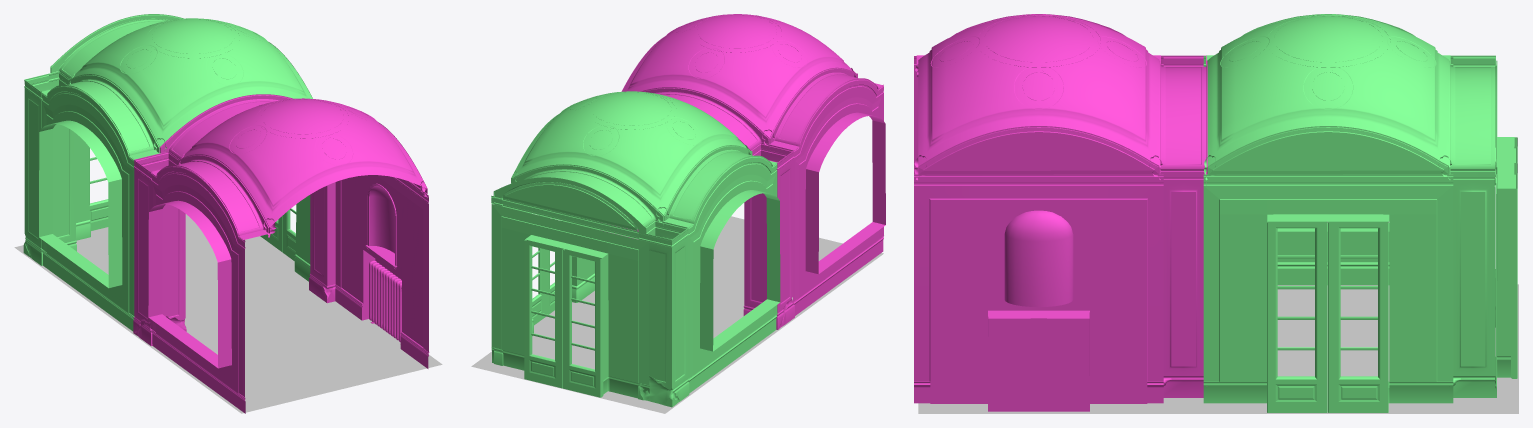
The model's file is Hallway_000_low.fbx.
3 renders of one model, left to right at view 1: azimuth 30°, elevation 25°; view 2: azimuth 150°, elevation 25°; view 3: azimuth 270°, elevation 25°, orthographic. The views are drawn at different scales.
Visible parts, largest first — view 1: Floor, room-01.roof.low, room-02.roof.low, room-01.wall.low, room-01.window.low, room-02.window.low, room-01.pillar-01.low, room-02.pillar-01.low, room-01.window-arch.low, room-02.window-arch.low, room-01.pillar-02.low, room-01.transfer-arch.low (+5 smaller); view 2: room-02.backwall.low, room-02.roof.low, room-01.roof.low, room-02.window.low, room-01.window.low, Floor, room-02.doors.low, room-02.pillar-01.low, room-01.pillar-01.low, room-02.transfer-arch.low, room-01.window-arch.low, room-02.window-arch.low (+2 smaller); view 3: room-01.wall.low, room-02.wall.low, room-02.roof.low, room-01.roof.low, room-02.doors.low, Floor, room-02.pillar-02.low, room-01.pillar-02.low, room-01.transfer-arch.low, room-02.transfer-arch.low, room-02.window.low, room-02.backwall.low (+3 smaller).
Boxes of the visible parts, box(x1,y1,x2,y2) form: Floor: box(14, 214, 442, 413); room-01.roof.low: box(179, 98, 426, 227); room-02.roof.low: box(69, 18, 312, 146); room-01.wall.low: box(335, 123, 429, 368); room-01.window.low: box(148, 165, 245, 413); room-02.window.low: box(39, 85, 135, 331); room-01.pillar-01.low: box(133, 151, 186, 345); room-02.pillar-01.low: box(23, 71, 76, 265); room-01.window-arch.low: box(151, 154, 269, 239); room-02.window-arch.low: box(42, 74, 160, 159); room-01.pillar-02.low: box(309, 182, 335, 303); room-01.transfer-arch.low: box(159, 94, 293, 159); room-02.backwall.low: box(491, 182, 649, 398); room-02.roof.low: box(511, 91, 749, 215); room-01.roof.low: box(622, 14, 855, 137); room-02.window.low: box(687, 155, 780, 393); room-01.window.low: box(793, 78, 885, 315); Floor: box(471, 216, 883, 413); room-02.doors.low: box(524, 215, 602, 397); room-02.pillar-01.low: box(638, 219, 689, 407); room-01.pillar-01.low: box(743, 142, 794, 329); room-02.transfer-arch.low: box(493, 164, 663, 233); room-01.window-arch.low: box(768, 67, 882, 150); room-02.window-arch.low: box(663, 145, 777, 227); room-01.wall.low: box(914, 126, 1163, 411); room-02.wall.low: box(1203, 126, 1453, 403); room-02.roof.low: box(1207, 15, 1448, 165); room-01.roof.low: box(918, 15, 1159, 165); room-02.doors.low: box(1267, 137, 1517, 412); Floor: box(918, 284, 1518, 413); room-02.pillar-02.low: box(1450, 169, 1496, 397); room-01.pillar-02.low: box(1160, 169, 1206, 397); room-01.transfer-arch.low: box(1159, 60, 1207, 174); room-02.transfer-arch.low: box(1449, 60, 1497, 174); room-02.window.low: box(1203, 14, 1453, 285); room-02.backwall.low: box(1494, 77, 1514, 388).
Size of the model in its own units: 271 by 295 by 502.
